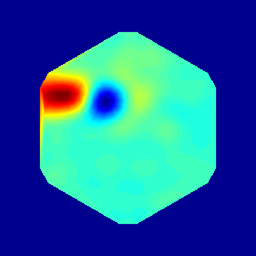ship: (90, 92, 124, 109)
wave: (60, 89, 96, 107)
